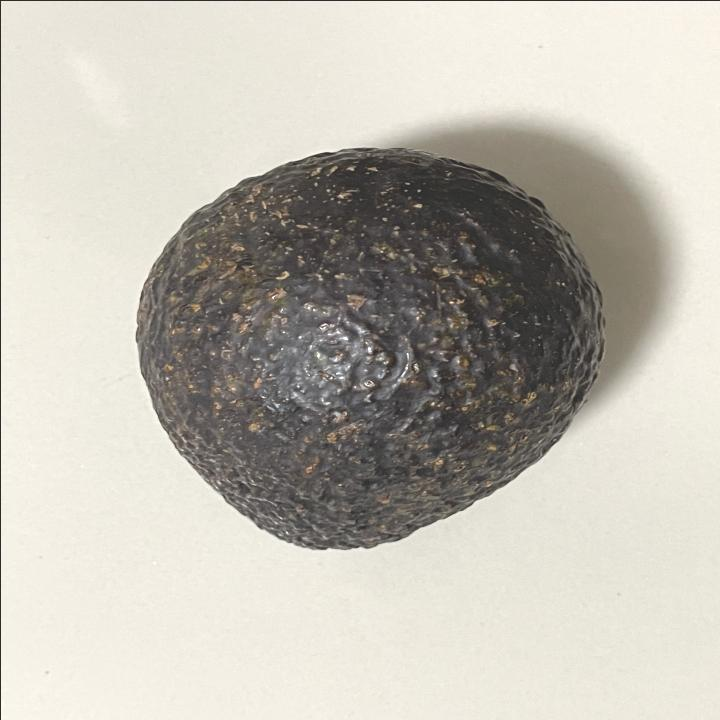Level2: (120, 138, 612, 560)
